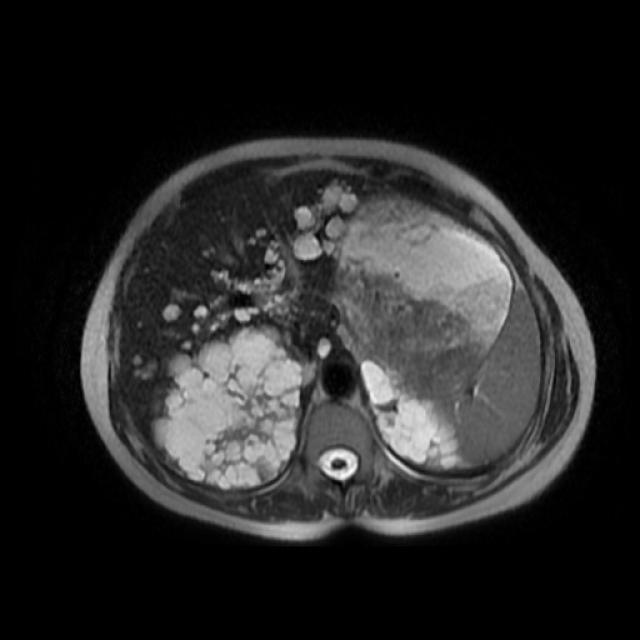sag: (151, 323, 317, 491)
sol: (359, 358, 481, 472)
